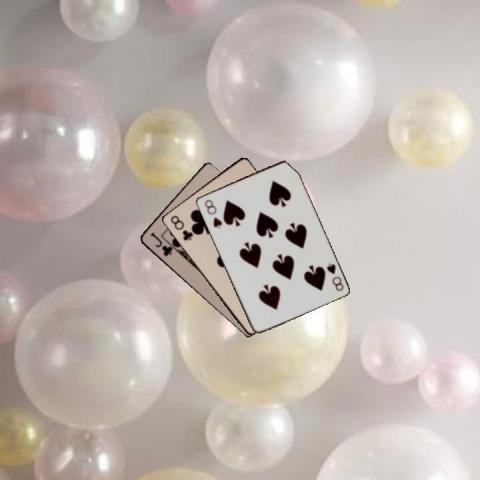8c: (168, 212, 194, 242)
8s: (323, 260, 345, 292), (202, 197, 223, 230)
Jc: (147, 230, 173, 258)
